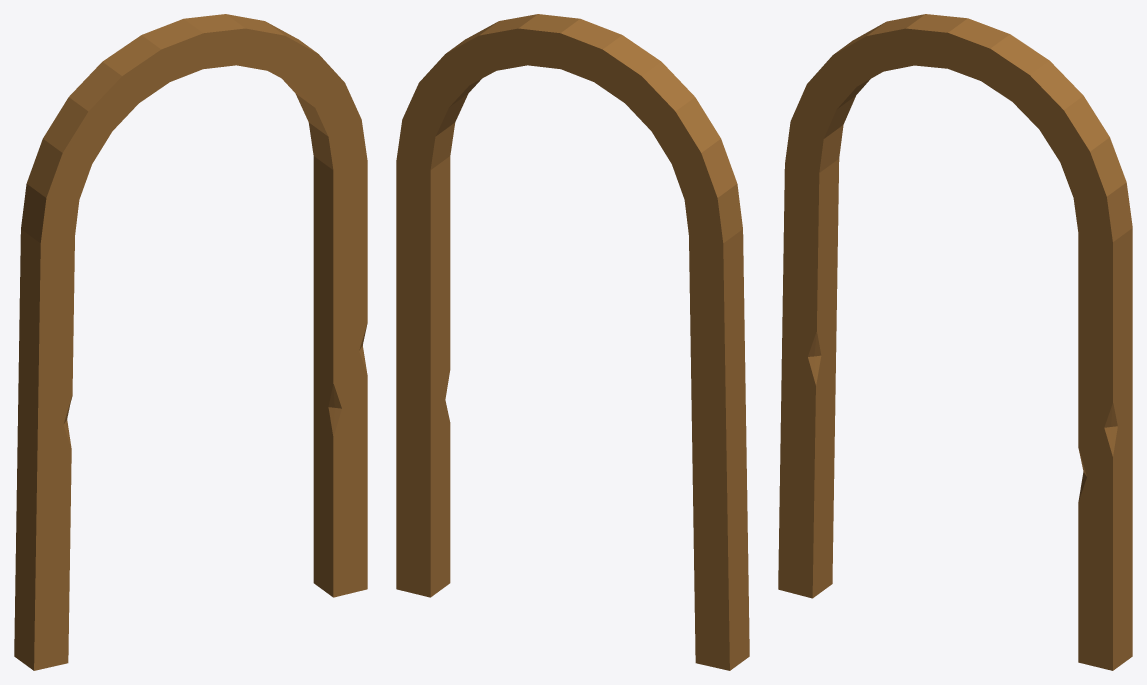
The model's file is archway.fbx.
3 views of the same model, side by side, from view 1: azimuth 30°, elevation 25°; view 2: azimuth 150°, elevation 25°; view 3: azimuth 330°, elevation 25° (orthographic).
Visible parts, largest first — view 1: archway; view 2: archway; view 3: archway.
Boxes of the visible parts, x1,y1,x2,y2 form: archway: [14, 14, 367, 670]; archway: [396, 14, 749, 670]; archway: [778, 14, 1132, 670].
Bounding box in the file's own units: 260 × 445 × 26.78.
